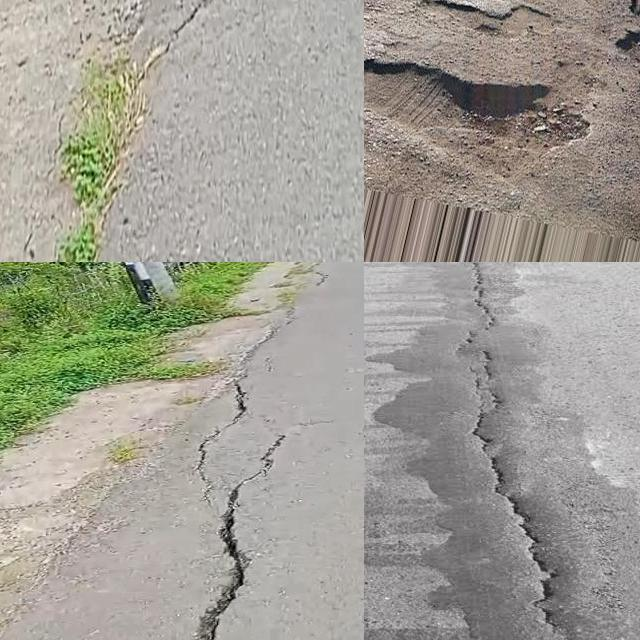Lubang: (364, 62, 593, 146)
Memanjang: (446, 262, 588, 640), (192, 428, 299, 640), (122, 0, 226, 100)
